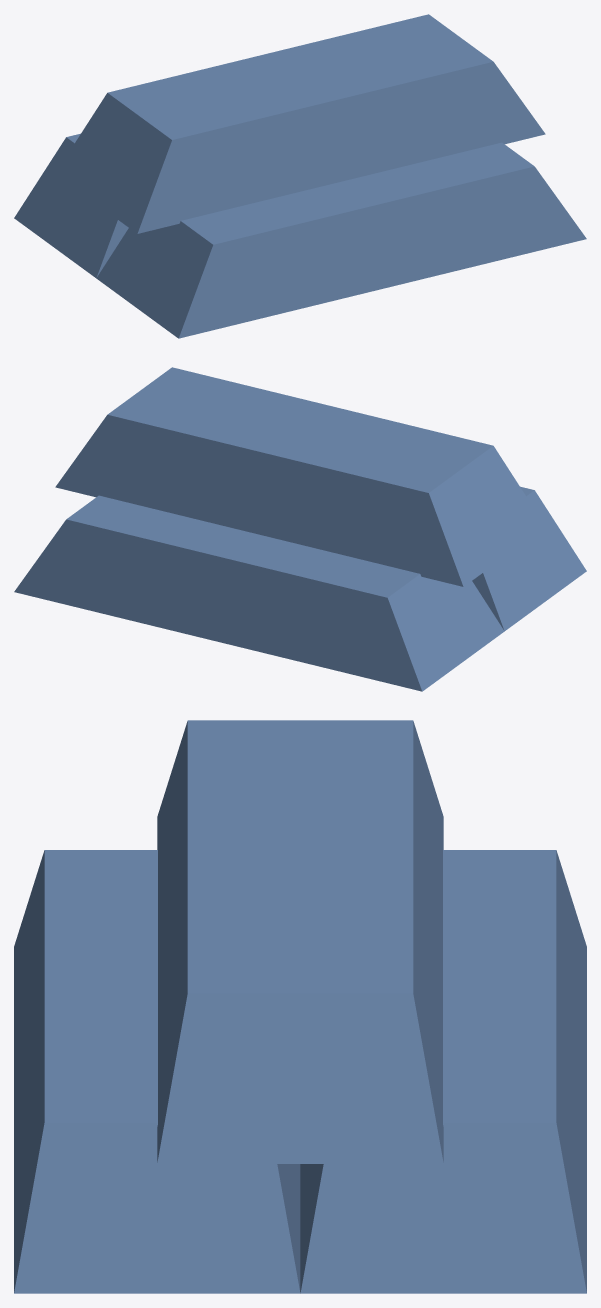
File: ingots.glb
3 views of the same model, one above another, from view 1: azimuth 30°, elevation 25°; view 2: azimuth 150°, elevation 25°; view 3: azimuth 270°, elevation 25° (orthographic). The views are drawn at different scales.
Parts seen in each view (by area): view 1: Cube; view 2: Cube; view 3: Cube.
Part boxes in pixels (x1=…): Cube: x1=14, y1=14, x2=586, y2=338; Cube: x1=14, y1=367, x2=586, y2=691; Cube: x1=14, y1=720, x2=586, y2=1293.
Bounding box in the file's own units: 2.86 × 1.02 × 2.
3 materials, 3 textured.
